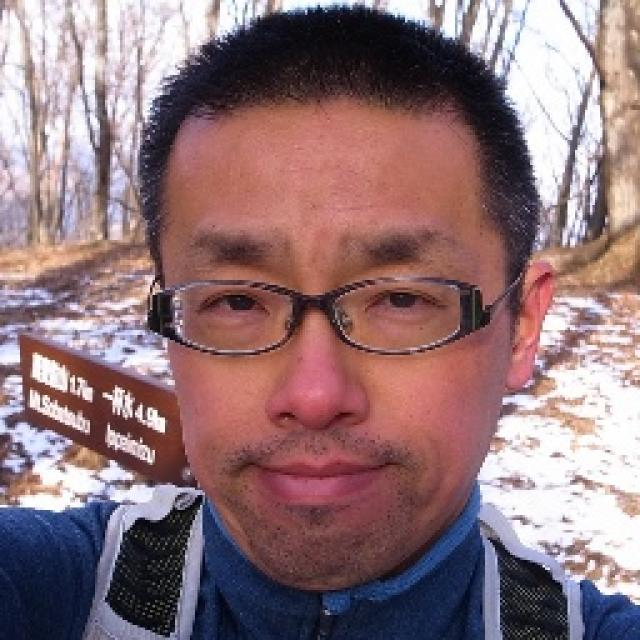earlobe: (503, 349, 533, 391)
eye: (202, 290, 274, 320), (364, 288, 440, 314)
nose: (266, 409, 366, 447)
wholeear: (502, 260, 554, 392)
